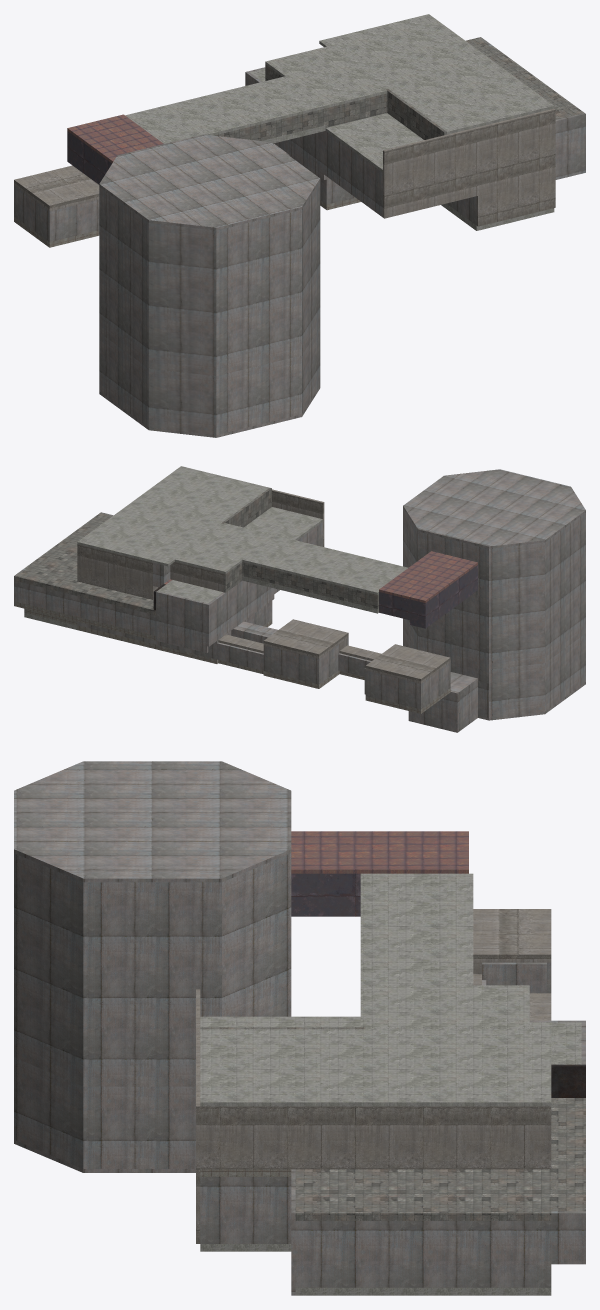
3 renders of one model, top to bottom at view 1: azimuth 30°, elevation 25°; view 2: azimuth 150°, elevation 25°; view 3: azimuth 270°, elevation 25°, orthographic. The views are drawn at different scales.
Visible parts, largest first — view 1: entity0_brush144, entity0_brush146, entity0_brush147, entity0_brush148, entity0_brush95, entity0_brush9, entity0_brush143, entity0_brush98, entity0_brush172, entity0_brush51, entity0_brush171, entity0_brush142 (+21 smaller); view 2: entity0_brush144, entity0_brush149, entity0_brush95, entity0_brush148, entity0_brush9, entity0_brush98, entity0_brush153, entity0_brush131, entity0_brush97, entity0_brush169, entity0_brush142, entity0_brush25 (+41 smaller); view 3: entity0_brush144, entity0_brush150, entity0_brush96, entity0_brush95, entity0_brush152, entity0_brush125, entity0_brush9, entity0_brush98, entity0_brush123, entity0_brush151, entity0_brush174, entity0_brush25 (+17 smaller).
Part boxes in pixels (left/top/right/bottom): entity0_brush144: left=99, top=134, right=320, bottom=230; entity0_brush146: left=216, top=209, right=301, bottom=376; entity0_brush147: left=148, top=223, right=216, bottom=376; entity0_brush148: left=99, top=187, right=148, bottom=368; entity0_brush95: left=319, top=14, right=494, bottom=89; entity0_brush9: left=125, top=76, right=325, bottom=143; entity0_brush143: left=383, top=127, right=477, bottom=218; entity0_brush98: left=388, top=62, right=554, bottom=134; entity0_brush172: left=216, top=355, right=301, bottom=434; entity0_brush51: left=476, top=154, right=555, bottom=226; entity0_brush171: left=148, top=368, right=216, bottom=434; entity0_brush142: left=265, top=46, right=387, bottom=108; entity0_brush144: left=403, top=469, right=585, bottom=548; entity0_brush149: left=489, top=542, right=544, bottom=669; entity0_brush95: left=77, top=501, right=222, bottom=566; entity0_brush148: left=545, top=513, right=585, bottom=662; entity0_brush9: left=242, top=535, right=408, bottom=594; entity0_brush98: left=133, top=466, right=269, bottom=523; entity0_brush153: left=418, top=593, right=488, bottom=669; entity0_brush131: left=16, top=581, right=155, bottom=635; entity0_brush97: left=79, top=545, right=153, bottom=599; entity0_brush169: left=489, top=663, right=544, bottom=718; entity0_brush142: left=174, top=523, right=275, bottom=574; entity0_brush25: left=379, top=551, right=477, bottom=602; entity0_brush144: left=14, top=761, right=291, bottom=882; entity0_brush150: left=83, top=882, right=221, bottom=1086; entity0_brush96: left=295, top=1106, right=551, bottom=1169; entity0_brush95: left=365, top=1027, right=551, bottom=1106; entity0_brush152: left=14, top=853, right=83, bottom=1086; entity0_brush125: left=295, top=1169, right=551, bottom=1220; entity0_brush9: left=360, top=873, right=473, bottom=985; entity0_brush98: left=200, top=1029, right=364, bottom=1106; entity0_brush123: left=360, top=1221, right=551, bottom=1287; entity0_brush151: left=222, top=853, right=291, bottom=1016; entity0_brush174: left=83, top=1086, right=195, bottom=1168; entity0_brush25: left=291, top=831, right=468, bottom=873.
Size of the model in its own units: 3056 by 1200 by 2112.
10 materials, 10 textured.
